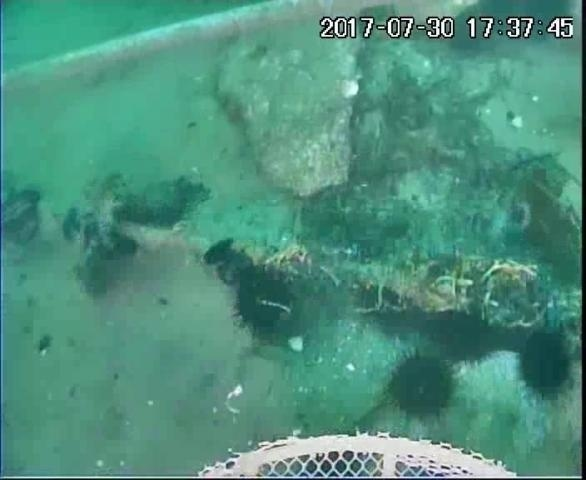echinus: (442, 2, 583, 64), (382, 349, 460, 424), (228, 263, 299, 337), (513, 323, 578, 401), (433, 305, 503, 367)
